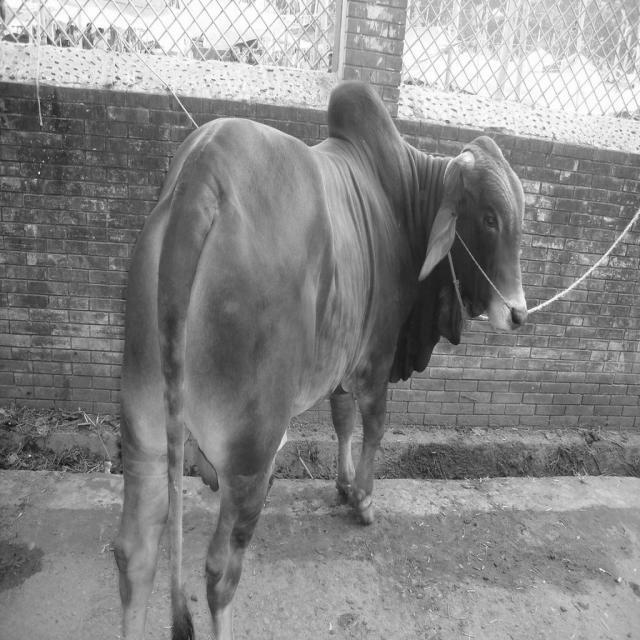cow: (115, 82, 526, 640)
